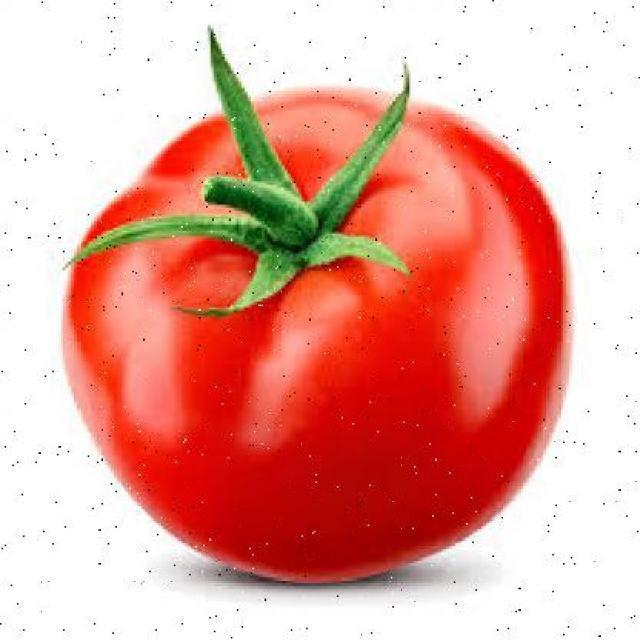tomato: (58, 37, 580, 589)
